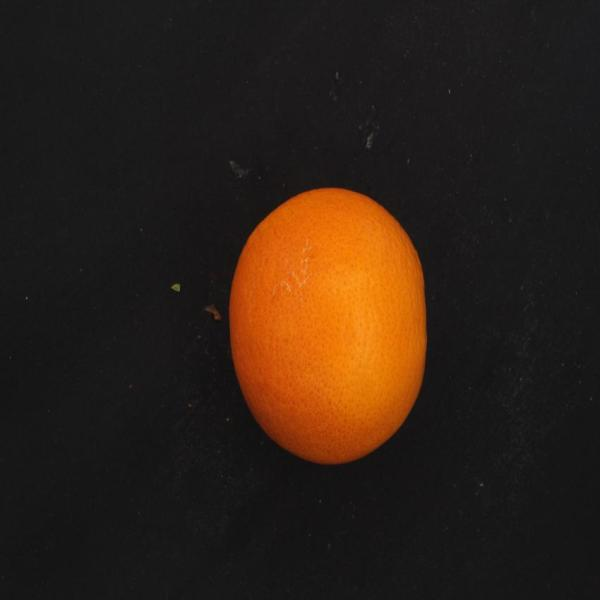Sana: (210, 179, 442, 475)
